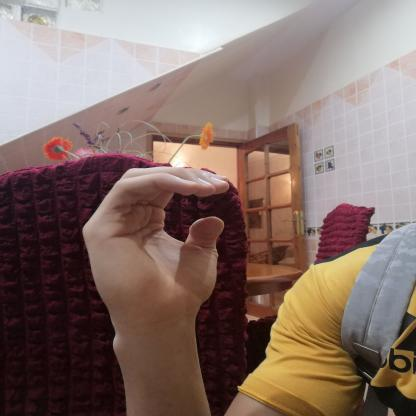JEEM: (69, 156, 247, 350)
